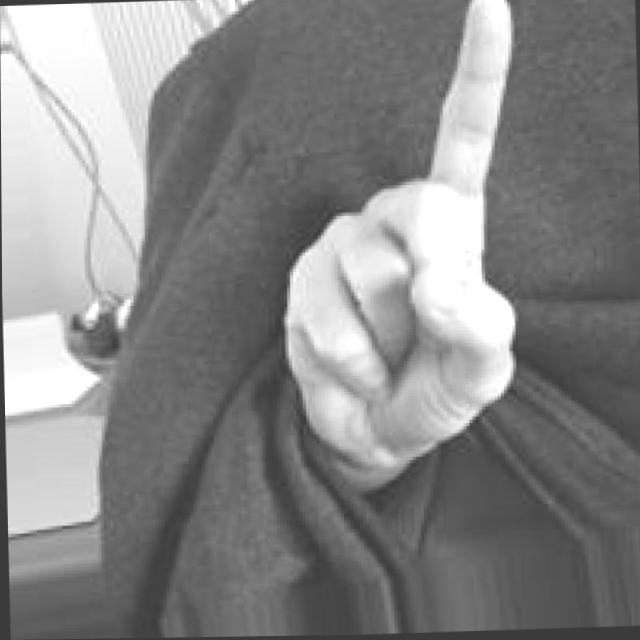I: (269, 0, 528, 492)
